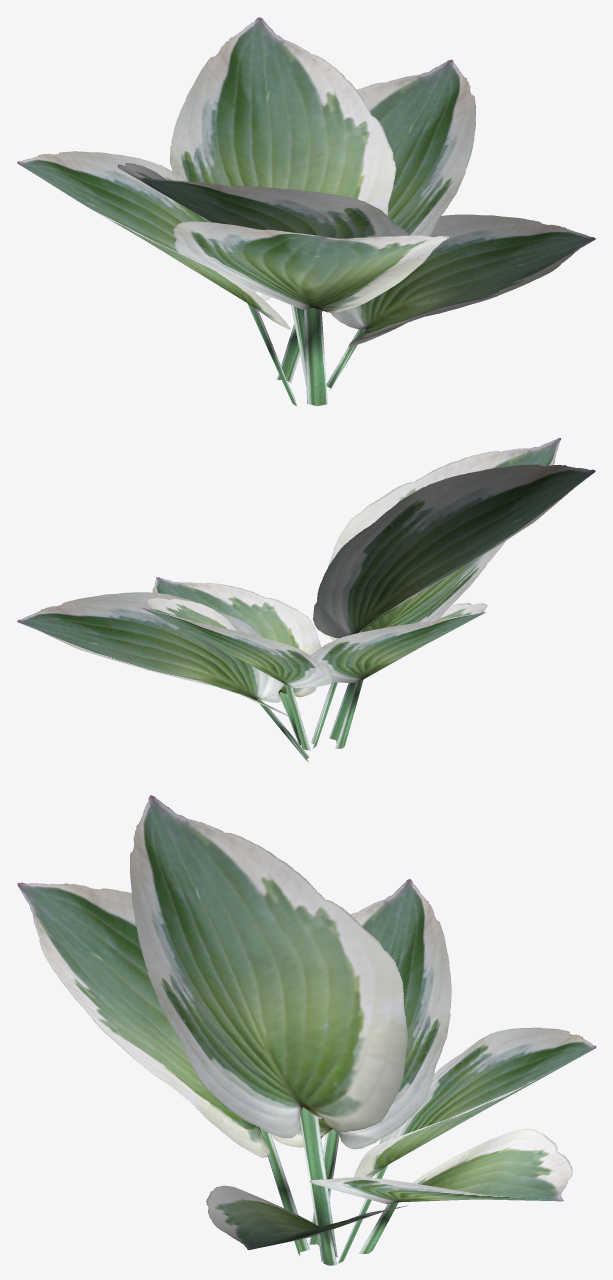
The model's file is plant_small_wg_04K.fbx.
3 renders of one model, top to bottom at view 1: azimuth 30°, elevation 25°; view 2: azimuth 150°, elevation 25°; view 3: azimuth 270°, elevation 25°, orthographic. The views are drawn at different scales.
Visible parts, largest first — view 1: plant_small_wg_04K; view 2: plant_small_wg_04K; view 3: plant_small_wg_04K.
Part boxes in pixels (x1,y1,x2,y2): plant_small_wg_04K: (17,17,595,406); plant_small_wg_04K: (17,438,595,761); plant_small_wg_04K: (17,795,596,1265).
Size of the model in its own units: 90.18 by 57.05 by 89.06.
